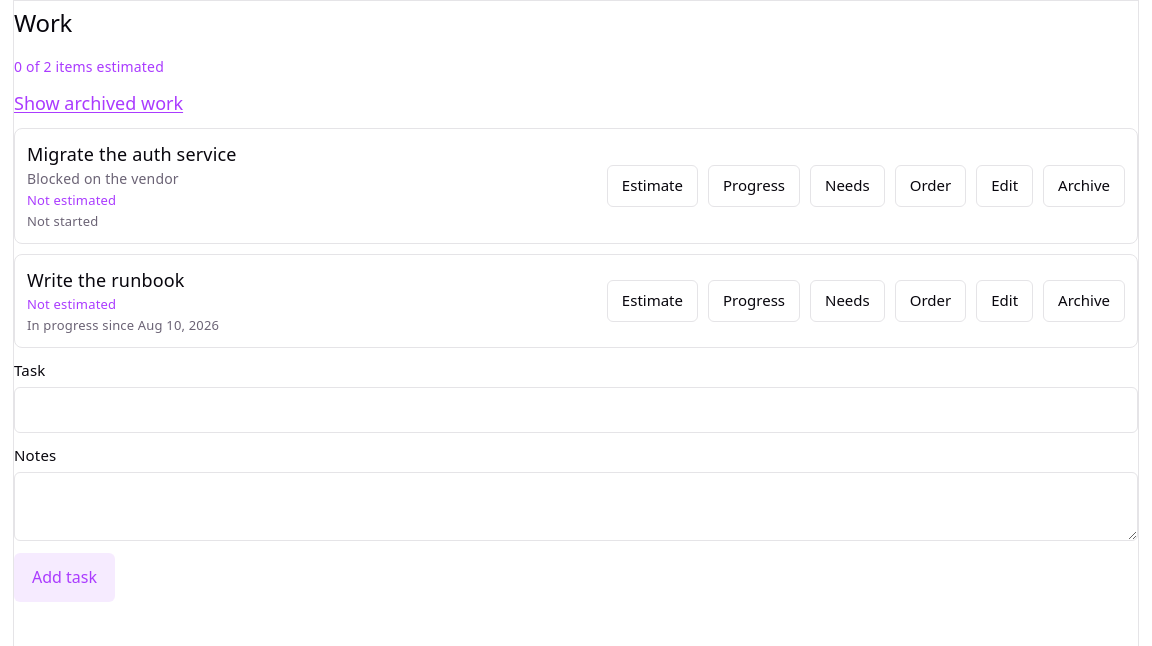
Test case: WorkItems › says so against the field when a reword is refused
The image size is (1152, 646).
Expected: the heading "Work" is shown, [14,6,72,39]
Click the button with aria-label "Edit Write the runbook" at (1005, 301), box [976,280,1033,322]
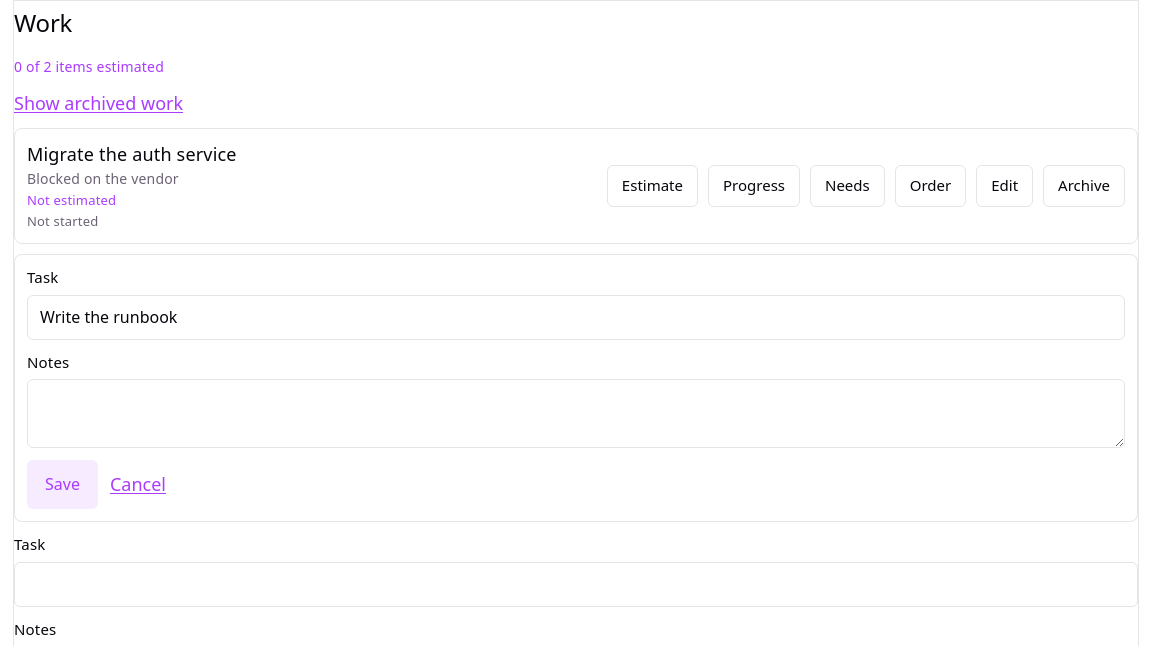
Click the button "Save" at (62, 484), box [27,460,98,509]
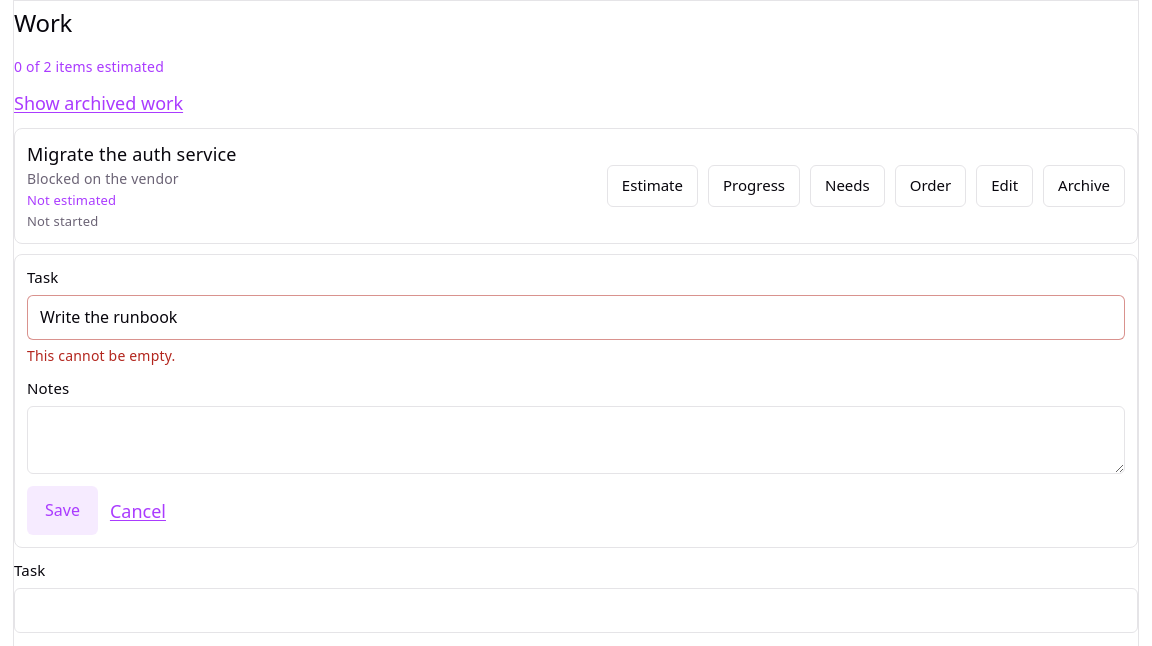
Expected: the button "Save" is shown, [27,486,98,535]
Expected: the text "This cannot be empty." is shown, [27,346,175,365]
